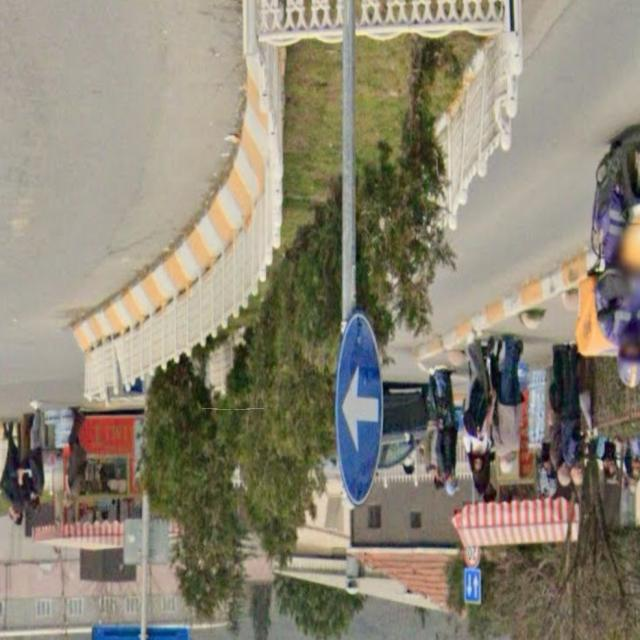Turn Left: (332, 306, 389, 508)
